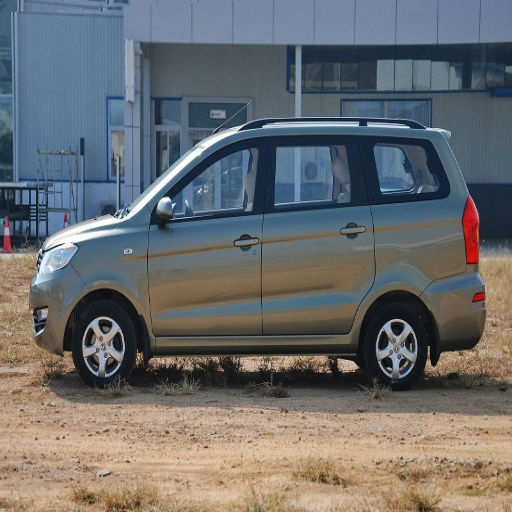back_left_door: (263, 129, 392, 333)
front_left_door: (148, 135, 271, 335)
